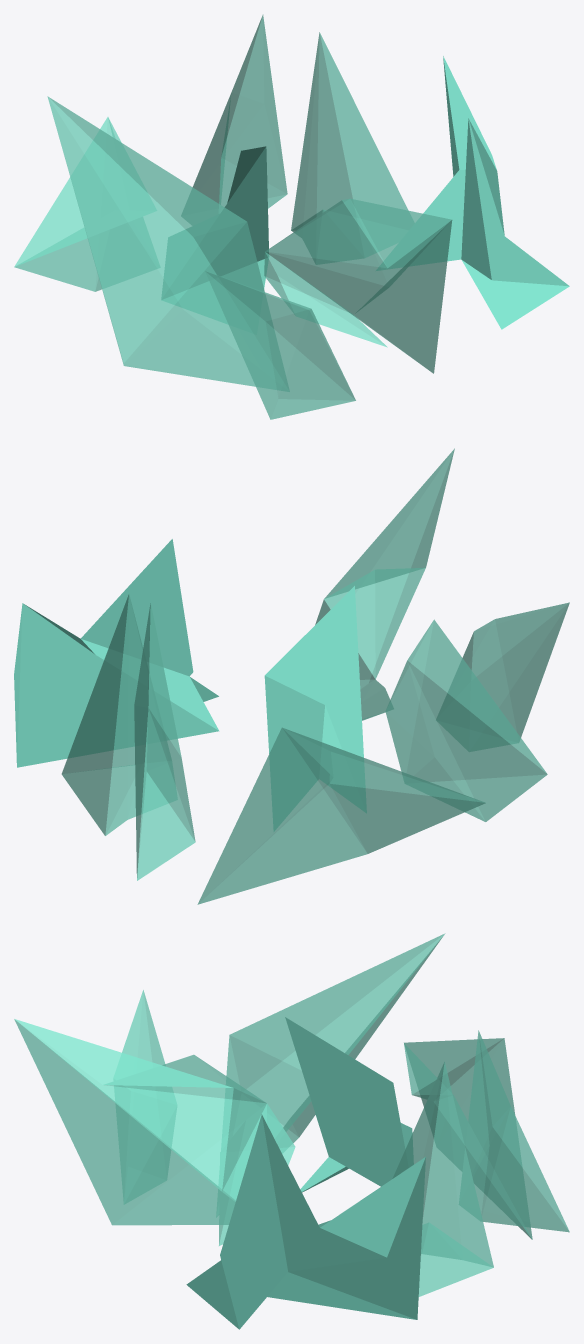
File: glass_spikes.fbx
The picture shows the model from 3 angles, top to bottom: view 1: azimuth 30°, elevation 25°; view 2: azimuth 150°, elevation 25°; view 3: azimuth 270°, elevation 25°; orthographic projection. The views are drawn at different scales.
Parts seen in each view (by area): view 1: Cube.007; view 2: Cube.007; view 3: Cube.007.
Boxes of the visible parts, left/top/right/bottom form: Cube.007: left=14, top=14, right=569, bottom=419; Cube.007: left=14, top=448, right=569, bottom=904; Cube.007: left=14, top=933, right=569, bottom=1329.
Size of the model in its own units: 654 by 341 by 701.
